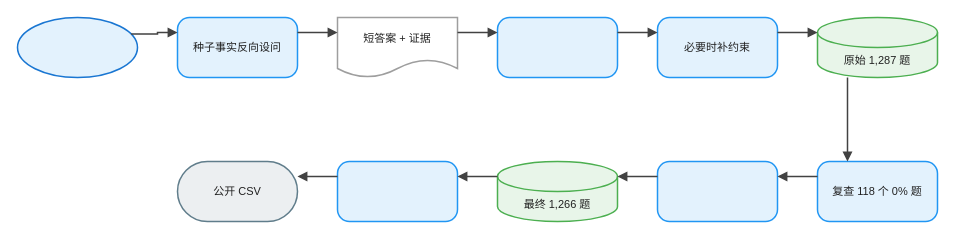
Some shapes in this 956 by 240 pixel diagram are drawn without their labels. Here are the shapes that lost their labels. From the top down, the centre of each, then its label:
At point 77,47: "兴趣主题".
At point 557,47: "三项难度检查 模型 · 5 搜 · 同伴抽查".
At point 397,191: "问答加密 + canary".
At point 717,191: "移除 21 个缺陷题".
